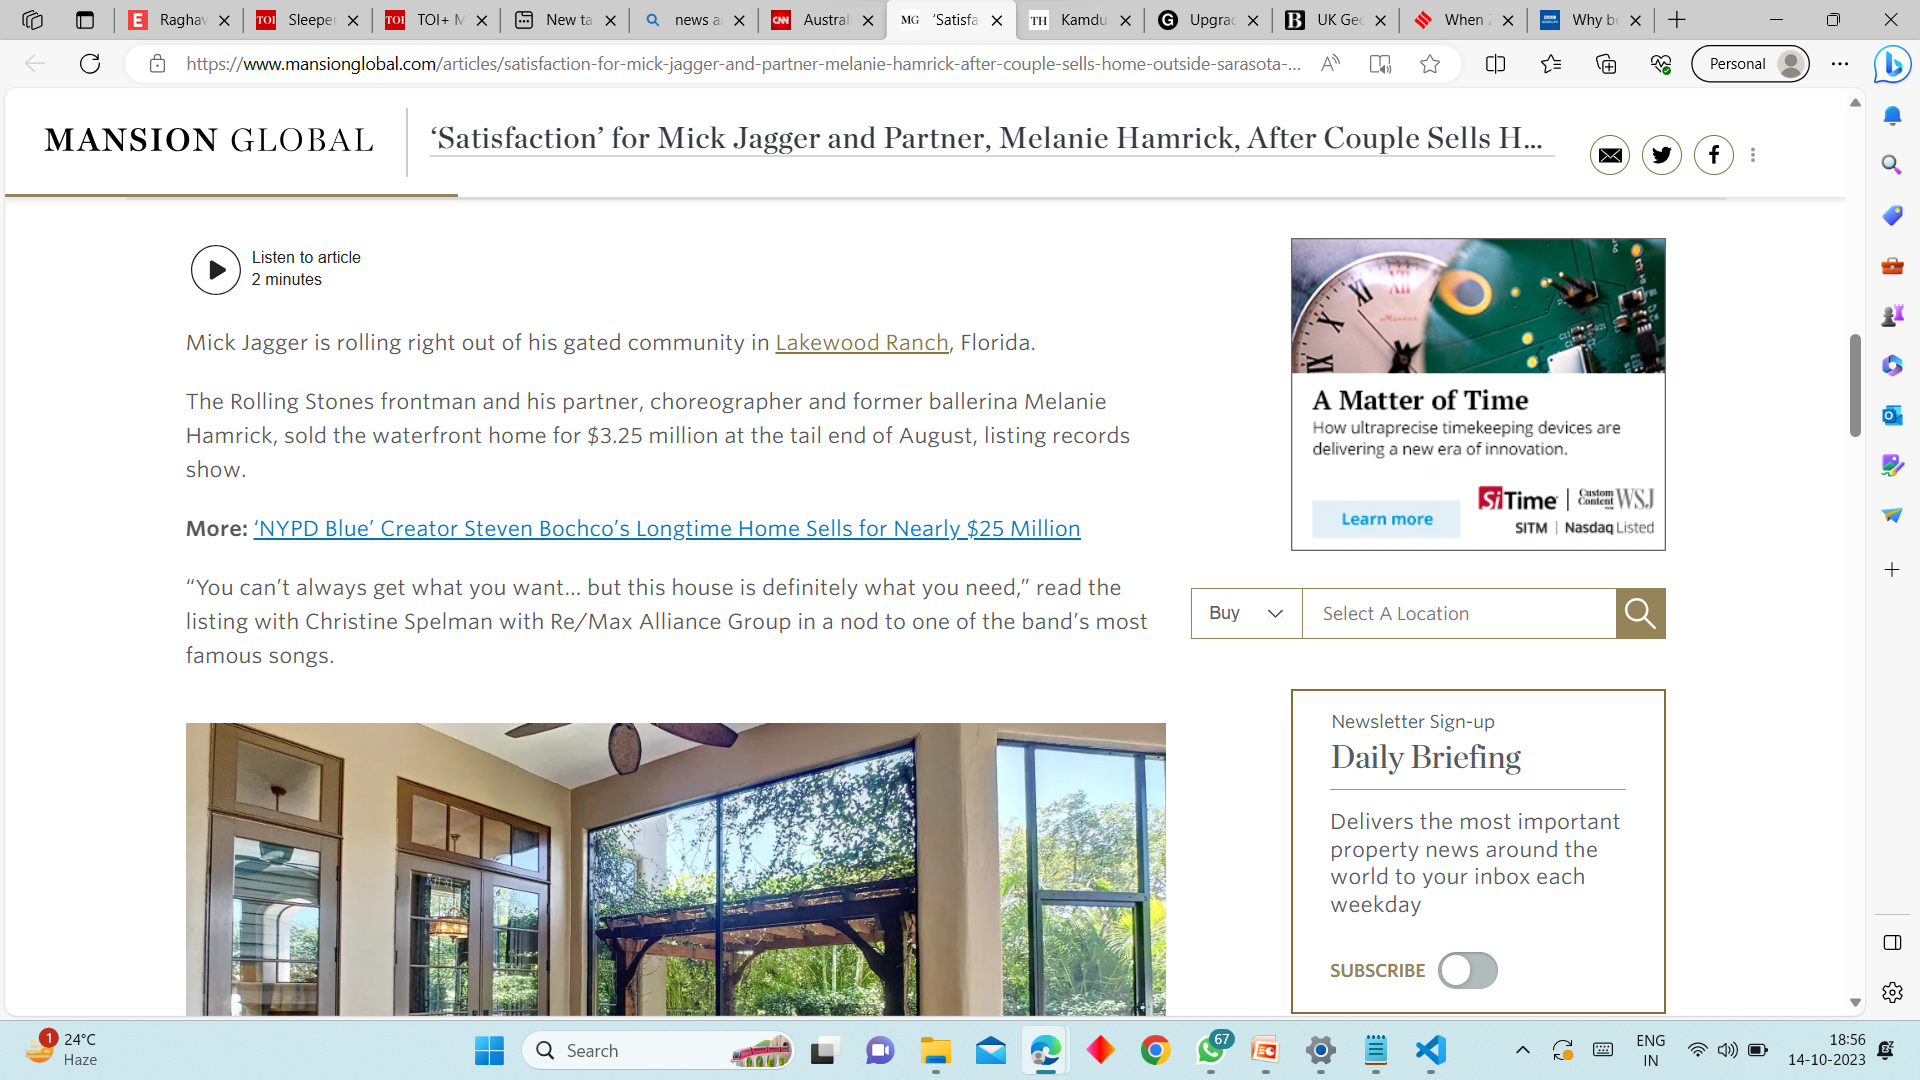Image: (199, 717, 1170, 1006), (1282, 228, 1664, 550), (1288, 688, 1671, 1009), (1192, 585, 1664, 637), (186, 239, 247, 298), (1585, 121, 1642, 181), (1643, 128, 1681, 187), (1695, 125, 1733, 181), (1749, 135, 1767, 177)
Paragraph: (179, 385, 1145, 496), (177, 576, 1160, 673), (398, 112, 1545, 181), (170, 510, 1062, 550), (177, 338, 1044, 363), (32, 123, 369, 174), (248, 247, 360, 293)
